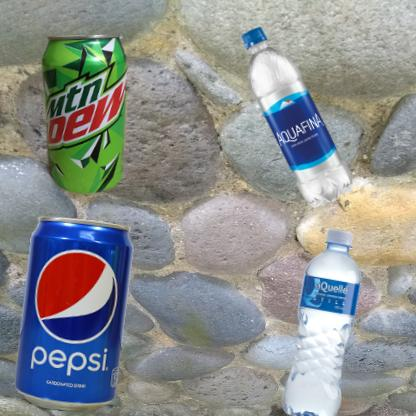botella: (213, 10, 415, 287), (213, 213, 416, 416)
lata: (10, 10, 166, 213), (10, 213, 144, 416)
